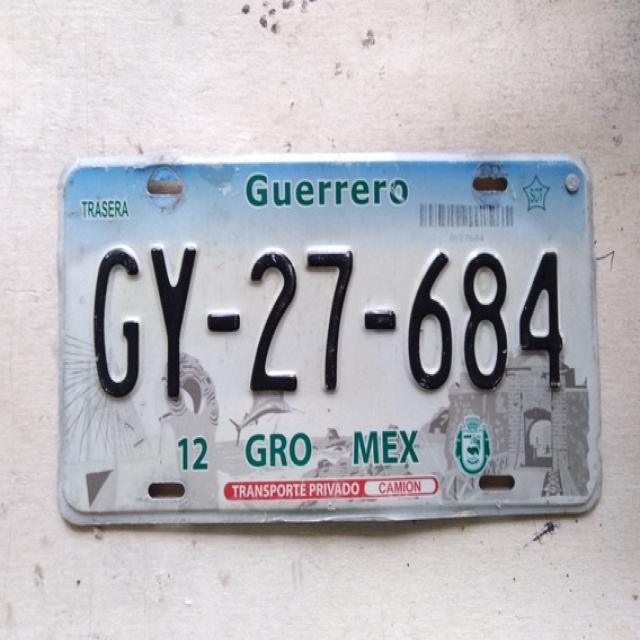placa: (80, 237, 586, 403)
